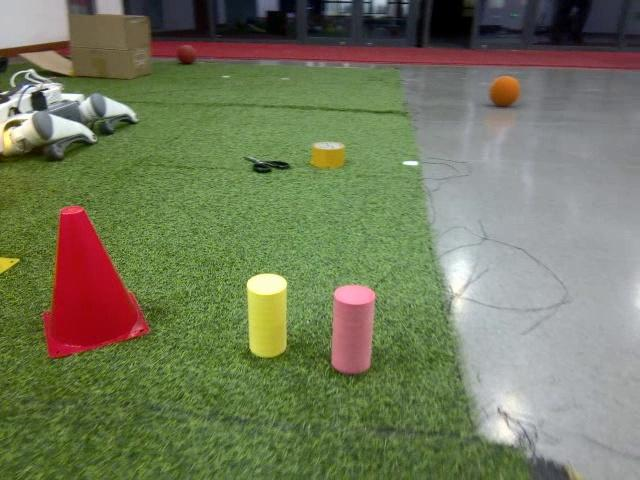orange_ball: (490, 73, 523, 109)
red_ball: (175, 42, 198, 67)
red_barrel: (41, 204, 151, 361)
red_cylinder: (331, 285, 376, 375)
yellow_cylinder: (245, 273, 290, 358)
